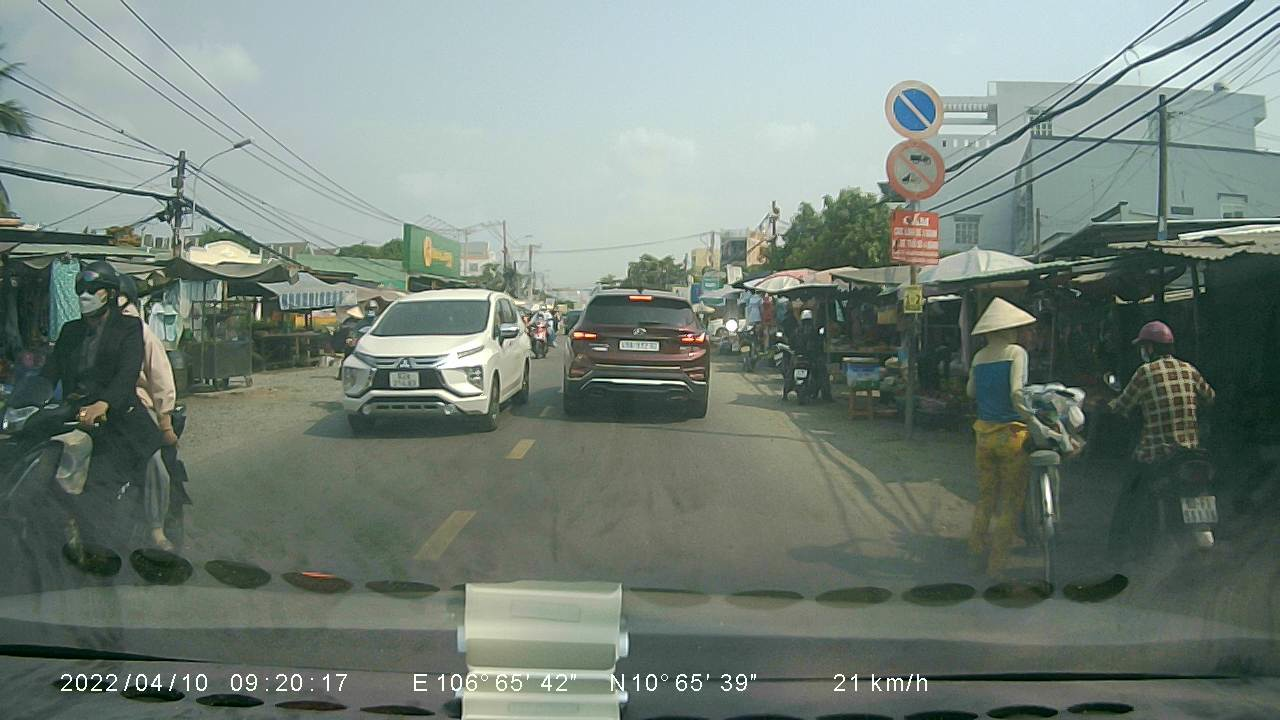Bien khac: (880, 138, 948, 200)
Cam do xe: (882, 78, 953, 140)
